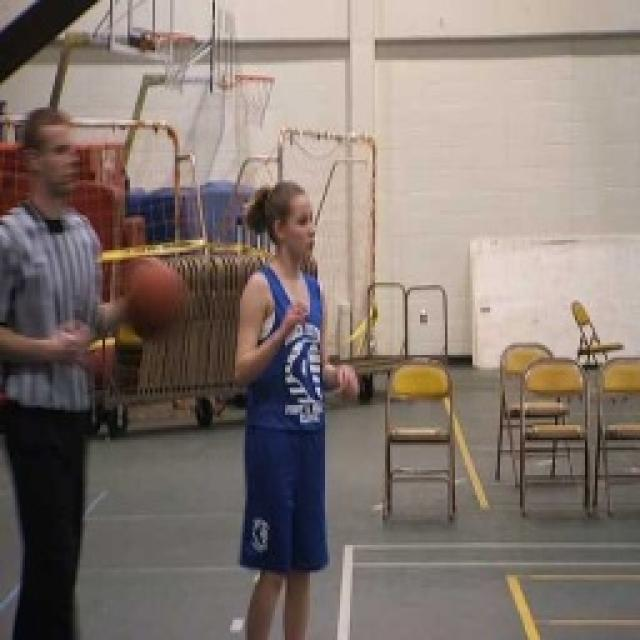basketball: (118, 258, 185, 342)
